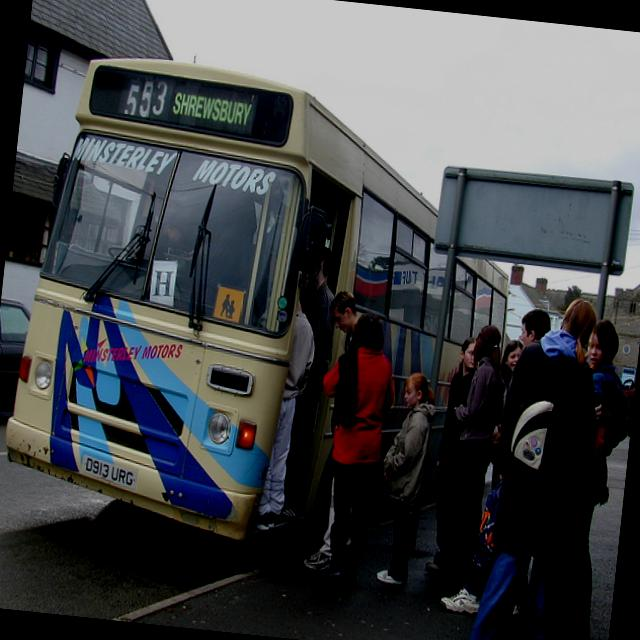Vehicle: (0, 47, 533, 556), (0, 297, 30, 416)
